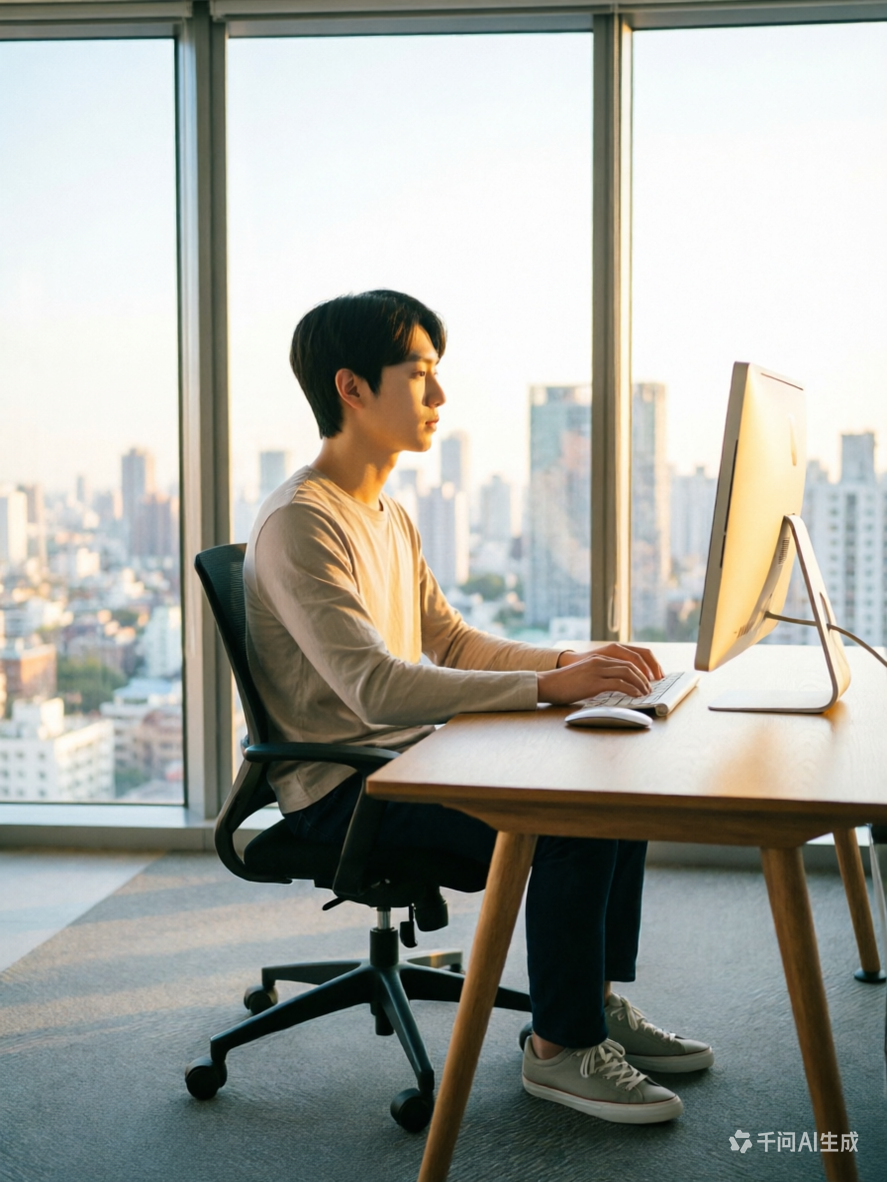sitting_good: (176, 225, 747, 1143)
